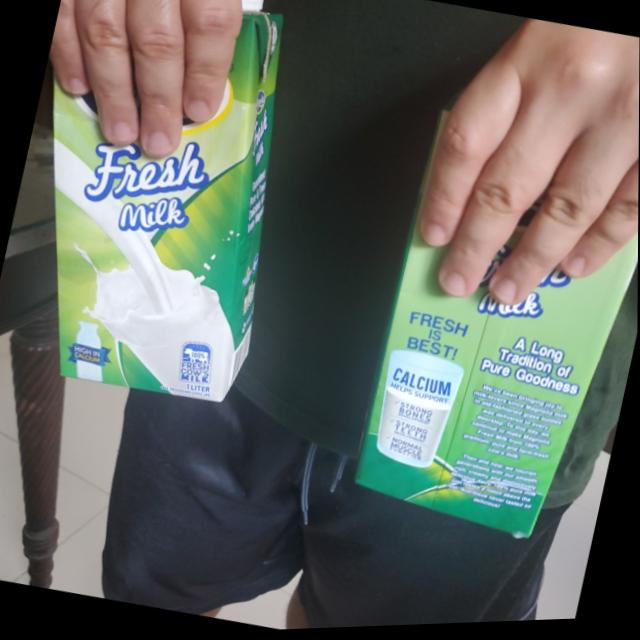milk: (0, 0, 324, 414), (341, 158, 639, 558)
